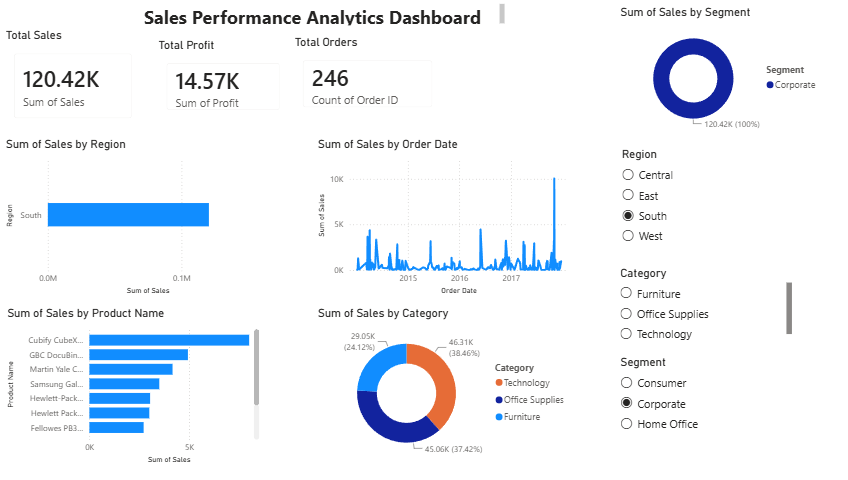

Layout of this report page (visuals, bound fields, positions):
{"tool":"powerbi","page":{"name":"Page 1","canvas":[1280,720],"ordinal":0},"visuals":[{"type":"cardVisual","title":"Total Sales","fields":{"Data":["Sum(ai_sales_dashboard sales_data.Sales)"]},"box":[8.9,44.4,207.8,148.9],"z":0},{"type":"cardVisual","title":"Total Profit","fields":{"Data":["Sum(ai_sales_dashboard sales_data.Profit)"]},"box":[231.1,57.8,200,122.2],"z":1000},{"type":"cardVisual","title":"Total Orders","fields":{"Data":["Count(ai_sales_dashboard sales_data.Order ID)"]},"box":[431.1,53.3,224.4,122.2],"z":2000},{"type":"barChart","fields":{"Category":["ai_sales_dashboard sales_data.Region"],"Y":["Sum(ai_sales_dashboard sales_data.Sales)"]},"box":[8.6,204.3,380,234.3],"z":3000},{"type":"lineChart","fields":{"Category":["ai_sales_dashboard sales_data.Order Date"],"Y":["Sum(ai_sales_dashboard sales_data.Sales)"]},"box":[465.7,204.3,380,234.3],"z":4000},{"type":"barChart","fields":{"Category":["ai_sales_dashboard sales_data.Product Name"],"Y":["Sum(ai_sales_dashboard sales_data.Sales)"]},"box":[9,452,380,234],"z":4001},{"type":"donutChart","fields":{"Category":["ai_sales_dashboard sales_data.Category"],"Y":["Sum(ai_sales_dashboard sales_data.Sales)"]},"box":[466,452,380,234],"z":4002},{"type":"donutChart","fields":{"Category":["ai_sales_dashboard sales_data.Segment"],"Y":["Sum(ai_sales_dashboard sales_data.Sales)"]},"box":[910,10,306,194],"z":4003},{"type":"listSlicer","fields":{"Values":["ai_sales_dashboard sales_data.Region"]},"box":[912,218,290,156],"z":4004},{"type":"listSlicer","fields":{"Values":["ai_sales_dashboard sales_data.Category"]},"box":[910,392,262,118],"z":4005},{"type":"listSlicer","fields":{"Values":["ai_sales_dashboard sales_data.Segment"]},"box":[910,524,262,176],"z":4006},{"type":"textbox","box":[655,53,191,150],"z":4007},{"type":"textbox","box":[210,2,540,42],"z":4008}]}

Visuals, with their boxes in screenshot pixels (x1, y1, x2, y2), scaled from the page's 1280x720 canvas onto the 848x480 screenshot:
"Total Sales" cardVisual: detection(6, 30, 144, 129)
"Total Profit" cardVisual: detection(153, 39, 286, 120)
"Total Orders" cardVisual: detection(286, 36, 434, 117)
barChart - ai_sales_dashboard sales_data.Region x Sum(ai_sales_dashboard sales_data.Sales): detection(6, 136, 257, 292)
lineChart - ai_sales_dashboard sales_data.Order Date x Sum(ai_sales_dashboard sales_data.Sales): detection(309, 136, 560, 292)
barChart - ai_sales_dashboard sales_data.Product Name x Sum(ai_sales_dashboard sales_data.Sales): detection(6, 301, 258, 457)
donutChart - ai_sales_dashboard sales_data.Category x Sum(ai_sales_dashboard sales_data.Sales): detection(309, 301, 560, 457)
donutChart - ai_sales_dashboard sales_data.Segment x Sum(ai_sales_dashboard sales_data.Sales): detection(603, 7, 806, 136)
listSlicer - ai_sales_dashboard sales_data.Region: detection(604, 145, 796, 249)
listSlicer - ai_sales_dashboard sales_data.Category: detection(603, 261, 776, 340)
listSlicer - ai_sales_dashboard sales_data.Segment: detection(603, 349, 776, 467)
textbox: detection(434, 35, 560, 135)
textbox: detection(139, 1, 497, 29)
